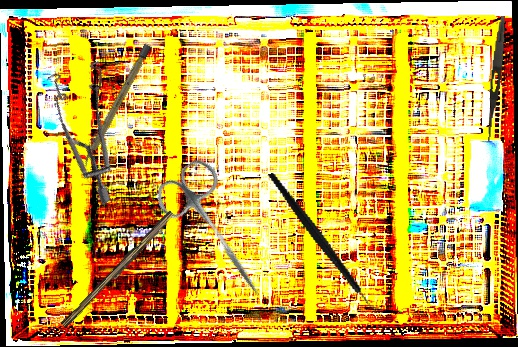Chopper: (265, 152, 387, 331)
Dressing Forceps: (483, 15, 509, 144)
Iris Scissors: (149, 153, 288, 313)
Scalpel Handle: (60, 208, 177, 332), (80, 42, 153, 168)
Speculum: (16, 45, 173, 206)
